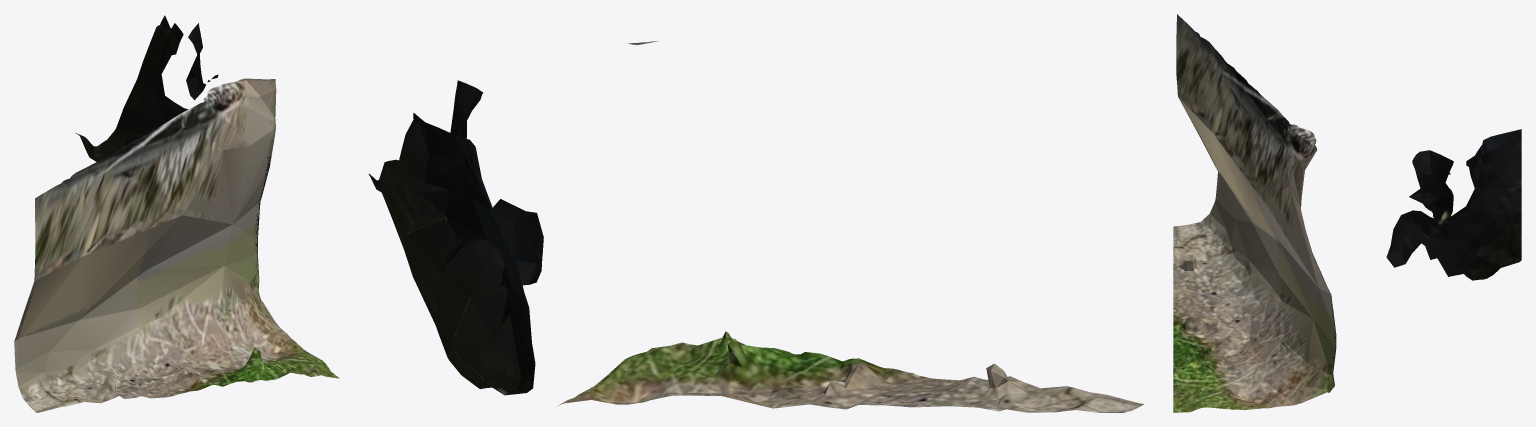
The picture shows the model from 3 angles, left to right: view 1: azimuth 30°, elevation 25°; view 2: azimuth 150°, elevation 25°; view 3: azimuth 270°, elevation 25°; orthographic projection. The views are drawn at different scales.
Size of the model in its own units: 3.35 by 2.67 by 3.35.
Materials: 3 (3 with a texture image).
